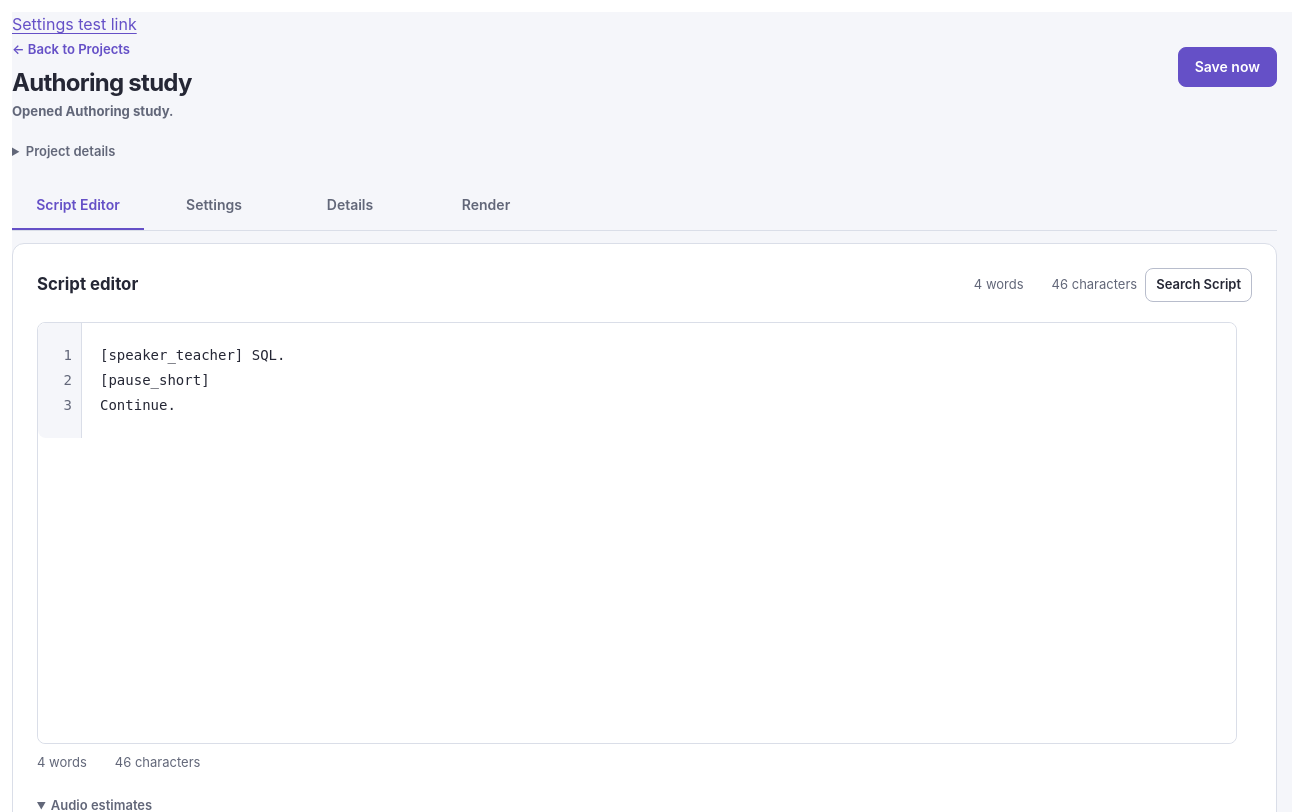
Test: Projects workbench › filters voices by model from one session discovery and appends unknown supported voices
The width and height of the screenshot is (1292, 812).
Click the tab "Settings" at (214, 206), box x1=148 y1=182 x2=280 y2=230
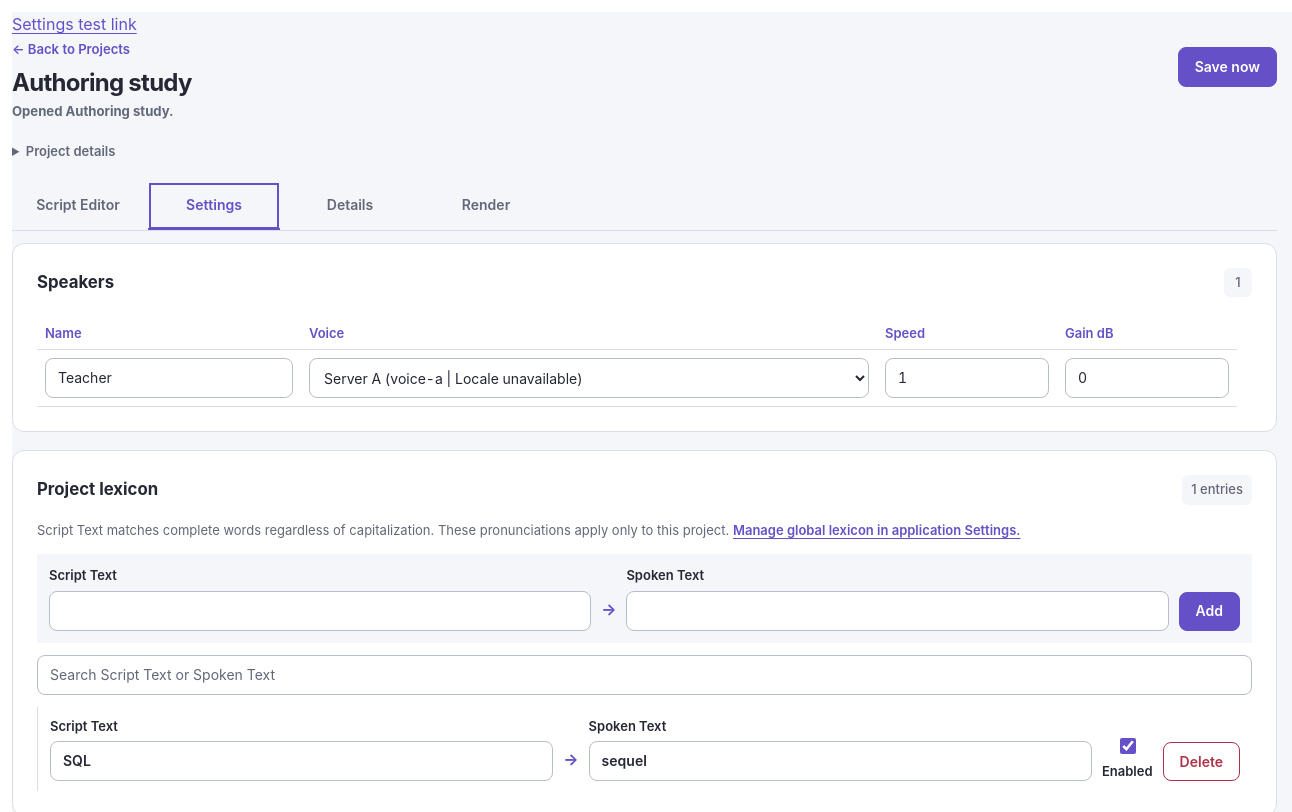
Check: the dropdown named "Voice for speaker teacher" shows "Server A (voice-a | Locale unavailable)", box x1=309 y1=358 x2=869 y2=398
